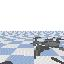drone: (30, 37, 64, 59)
